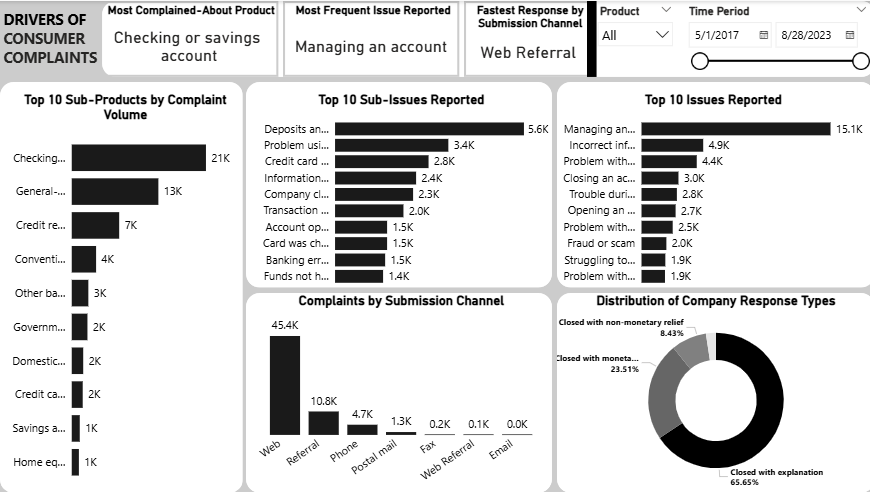

The page's visual inventory and layout, read from the dashboard file:
{"tool":"powerbi","page":{"name":"Product, Issue & Channel Analysis","canvas":[1280,720],"ordinal":1},"visuals":[{"type":"shape","box":[0,0,1280,720.6],"z":0},{"type":"shape","box":[815.2,117.9,464.8,300.8],"z":1000},{"type":"shape","box":[0,117.9,355.5,601.5],"z":2000},{"type":"shape","box":[815.2,427.2,464.8,292.2],"z":3000},{"type":"shape","box":[360.6,117.9,447.7,300.8],"z":4000},{"type":"shape","box":[360.6,427.2,447.7,292.2],"z":5000},{"type":"shape","box":[148.7,0,1131.3,111.1],"z":6000},{"type":"clusteredBarChart","title":"Top 10 Sub-Products by Complaint Volume","fields":{"Category":["Complaints (Fact).Sub-product"],"Y":["CountNonNull(Complaints (Fact).Complaint ID)"]},"box":[0,133.2,367.3,586.8],"z":7000},{"type":"clusteredBarChart","title":"Top 10 Issues Reported","fields":{"Y":["CountNonNull(Complaints (Fact).Complaint ID)"],"Category":["Complaints (Fact).Issue"]},"box":[807.8,133.2,472.7,294.1],"z":8000},{"type":"clusteredBarChart","title":"Top 10 Sub-Issues Reported","fields":{"Y":["CountNonNull(Complaints (Fact).Complaint ID)"],"Category":["Complaints (Fact).Sub-issue"]},"box":[367.3,133.2,440.5,294.1],"z":9000},{"type":"clusteredColumnChart","title":"Complaints by Submission Channel","fields":{"Category":["Complaints (Fact).Submitted via"],"Y":["CountNonNull(Complaints (Fact).Complaint ID)"]},"box":[367.3,427.3,440.5,292.7],"z":10000},{"type":"donutChart","title":"Distribution of Company Response Types","fields":{"Category":["Complaints (Fact).Company response to consumer"],"Y":["CountNonNull(Complaints (Fact).Complaint ID)"]},"box":[815.1,427.3,465.4,292.7],"z":11000},{"type":"slicer","fields":{"Values":["Complaints (Fact).Product"]},"box":[864.7,0,129.9,111.1],"z":12000},{"type":"slicer","fields":{"Values":["Complaints (Fact).Date submitted"]},"box":[994.6,0,285.4,153.8],"z":13000},{"type":"card","title":"Most Complained-About Product","fields":{"Values":["Company.Most Complained Product"]},"box":[147,0,261.5,111.1],"z":14000},{"type":"card","title":"Most Frequent Issue Reported","fields":{"Values":["Company.Most Common Issue"]},"box":[414.4,0,258.1,111.1],"z":15000},{"type":"card","title":"Fastest Response by Submission Channel","fields":{"Values":["Company.Fastest Submission Channel"]},"box":[678.5,0,188,111.1],"z":16000},{"type":"shape","box":[859.6,0,13.7,111.1],"z":17000},{"type":"textbox","box":[0,6.8,148.7,111.1],"z":18000}]}

Visuals, with their boxes in screenshot pixels (x1, y1, x2, y2), scaled from the page's 1280x720 canvas onto the 870x492 screenshot:
shape: {"left": 0, "top": 0, "right": 869, "bottom": 491}
shape: {"left": 554, "top": 81, "right": 869, "bottom": 286}
shape: {"left": 0, "top": 81, "right": 242, "bottom": 491}
shape: {"left": 554, "top": 292, "right": 869, "bottom": 491}
shape: {"left": 245, "top": 81, "right": 549, "bottom": 286}
shape: {"left": 245, "top": 292, "right": 549, "bottom": 491}
shape: {"left": 101, "top": 0, "right": 869, "bottom": 76}
"Top 10 Sub-Products by Complaint Volume" clusteredBarChart: {"left": 0, "top": 91, "right": 250, "bottom": 491}
"Top 10 Issues Reported" clusteredBarChart: {"left": 549, "top": 91, "right": 869, "bottom": 292}
"Top 10 Sub-Issues Reported" clusteredBarChart: {"left": 250, "top": 91, "right": 549, "bottom": 292}
"Complaints by Submission Channel" clusteredColumnChart: {"left": 250, "top": 292, "right": 549, "bottom": 491}
"Distribution of Company Response Types" donutChart: {"left": 554, "top": 292, "right": 869, "bottom": 491}
slicer - Complaints (Fact).Product: {"left": 588, "top": 0, "right": 676, "bottom": 76}
slicer - Complaints (Fact).Date submitted: {"left": 676, "top": 0, "right": 869, "bottom": 105}
"Most Complained-About Product" card: {"left": 100, "top": 0, "right": 278, "bottom": 76}
"Most Frequent Issue Reported" card: {"left": 282, "top": 0, "right": 457, "bottom": 76}
"Fastest Response by Submission Channel" card: {"left": 461, "top": 0, "right": 589, "bottom": 76}
shape: {"left": 584, "top": 0, "right": 594, "bottom": 76}
textbox: {"left": 0, "top": 5, "right": 101, "bottom": 81}
